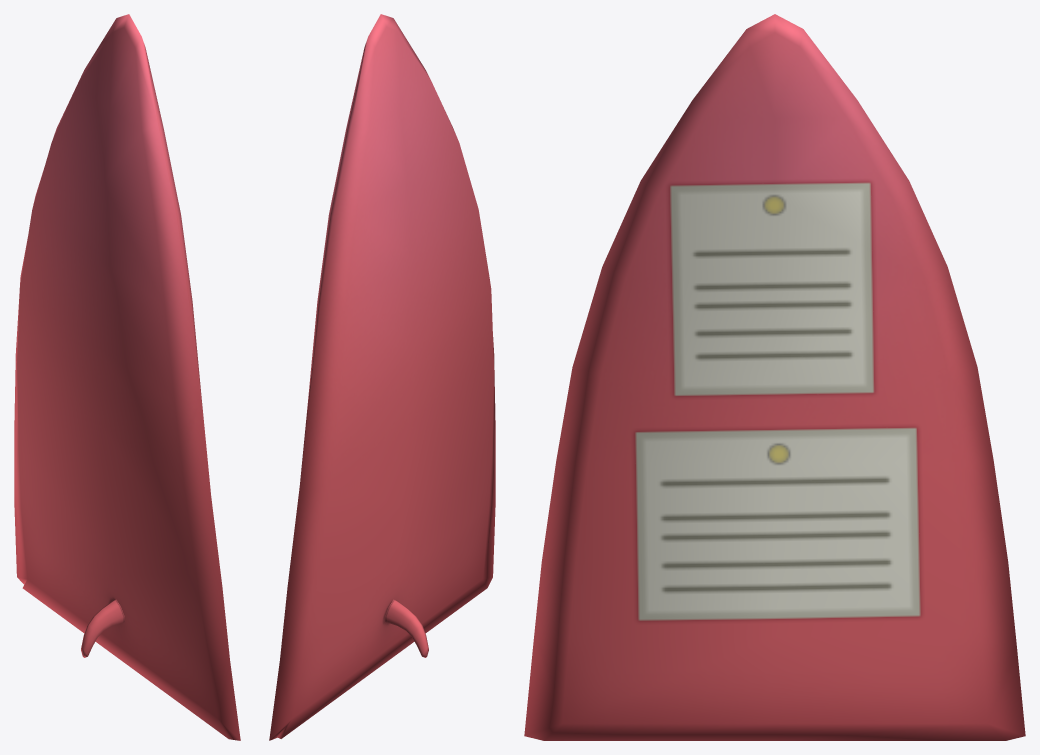
File: boatboard.fbx
3 renders of one model, left to right at view 1: azimuth 30°, elevation 25°; view 2: azimuth 150°, elevation 25°; view 3: azimuth 270°, elevation 25°, orthographic. The views are drawn at different scales.
Visible parts, largest first — view 1: boatboard; view 2: boatboard; view 3: boatboard.
Part boxes in pixels (<box>): boatboard: <box>14,14,240,740</box>; boatboard: <box>269,14,495,740</box>; boatboard: <box>524,14,1025,740</box>.
Size of the model in its own units: 17.11 by 201 by 126.
